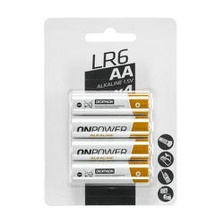battery: (68, 113, 152, 144), (69, 158, 152, 188), (68, 89, 153, 116), (68, 137, 153, 163)
book: (39, 11, 180, 210)
